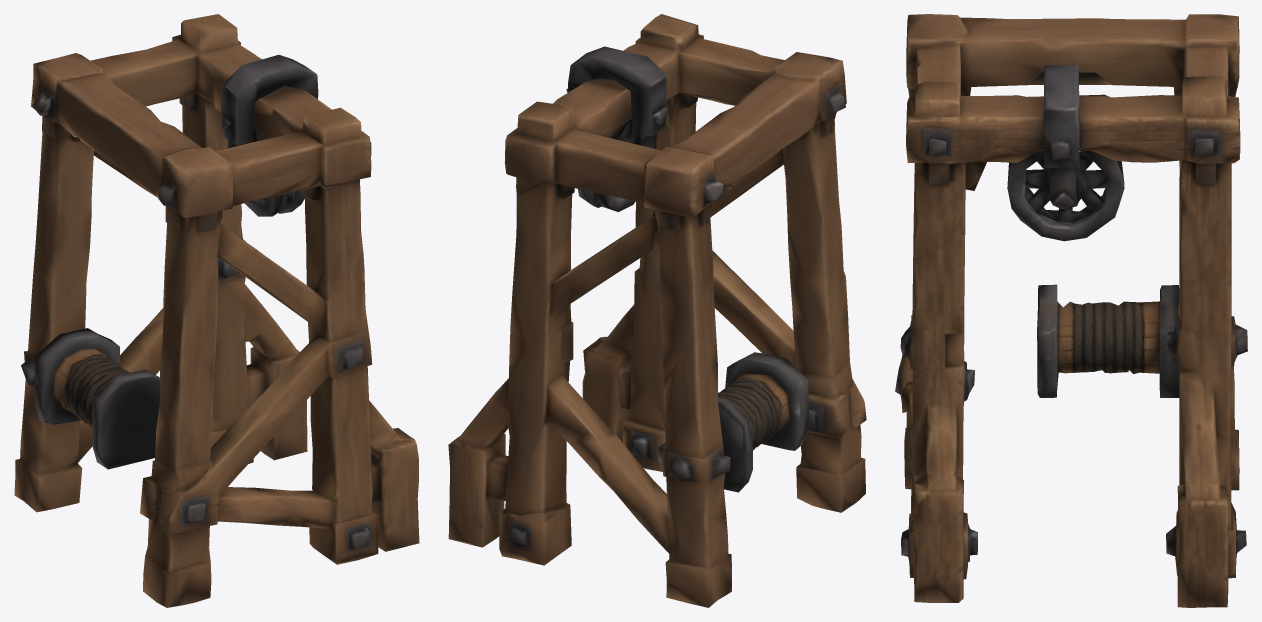
Rendered from textures.glb.
3 renders of one model, left to right at view 1: azimuth 30°, elevation 25°; view 2: azimuth 150°, elevation 25°; view 3: azimuth 270°, elevation 25°, orthographic. The views are drawn at different scales.
Parts seen in each view (by area): view 1: tripo_node_a92d4214-35c8-4954-9042-8b0369c8322c; view 2: tripo_node_a92d4214-35c8-4954-9042-8b0369c8322c; view 3: tripo_node_a92d4214-35c8-4954-9042-8b0369c8322c.
Part boxes in pixels (x1,y1,x2,y2): tripo_node_a92d4214-35c8-4954-9042-8b0369c8322c: [14, 14, 419, 607]; tripo_node_a92d4214-35c8-4954-9042-8b0369c8322c: [448, 14, 866, 607]; tripo_node_a92d4214-35c8-4954-9042-8b0369c8322c: [895, 14, 1247, 607].
Size of the model in its own units: 0.6391 by 1 by 0.658.
1 material, 1 textured.
